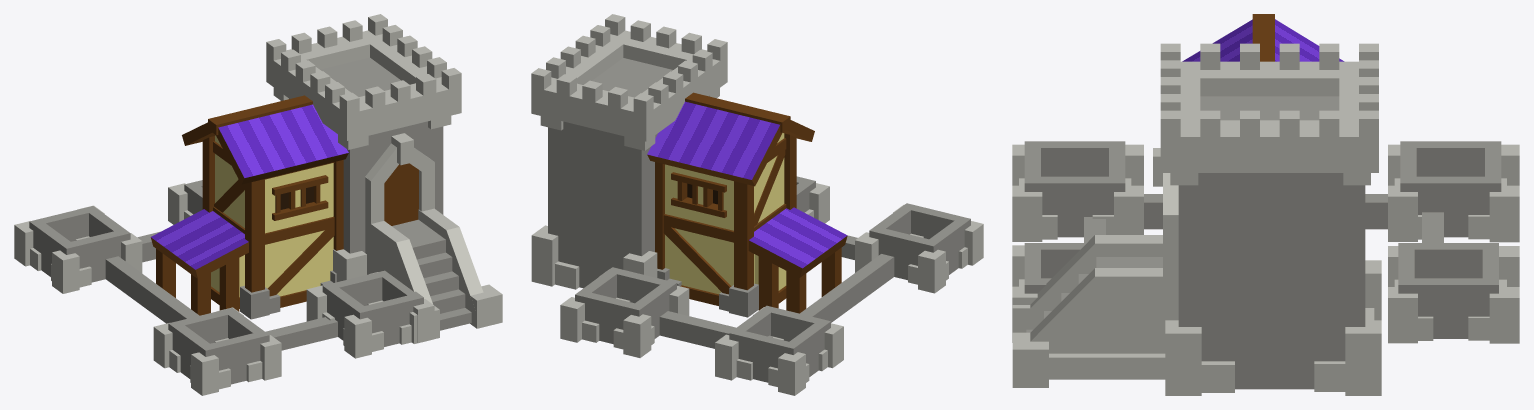
File: SmallerKeep.fbx
The picture shows the model from 3 angles, left to right: view 1: azimuth 30°, elevation 25°; view 2: azimuth 150°, elevation 25°; view 3: azimuth 270°, elevation 25°; orthographic projection. The views are drawn at different scales.
Visible parts, largest first — view 1: polySurface1; view 2: polySurface1; view 3: polySurface1.
Part boxes in pixels (x1,y1,x2,y2): polySurface1: (14, 14, 502, 395); polySurface1: (531, 14, 983, 395); polySurface1: (1012, 14, 1519, 395).
Size of the model in its own units: 247 by 162 by 256.
Materials: 1 (1 with a texture image).
